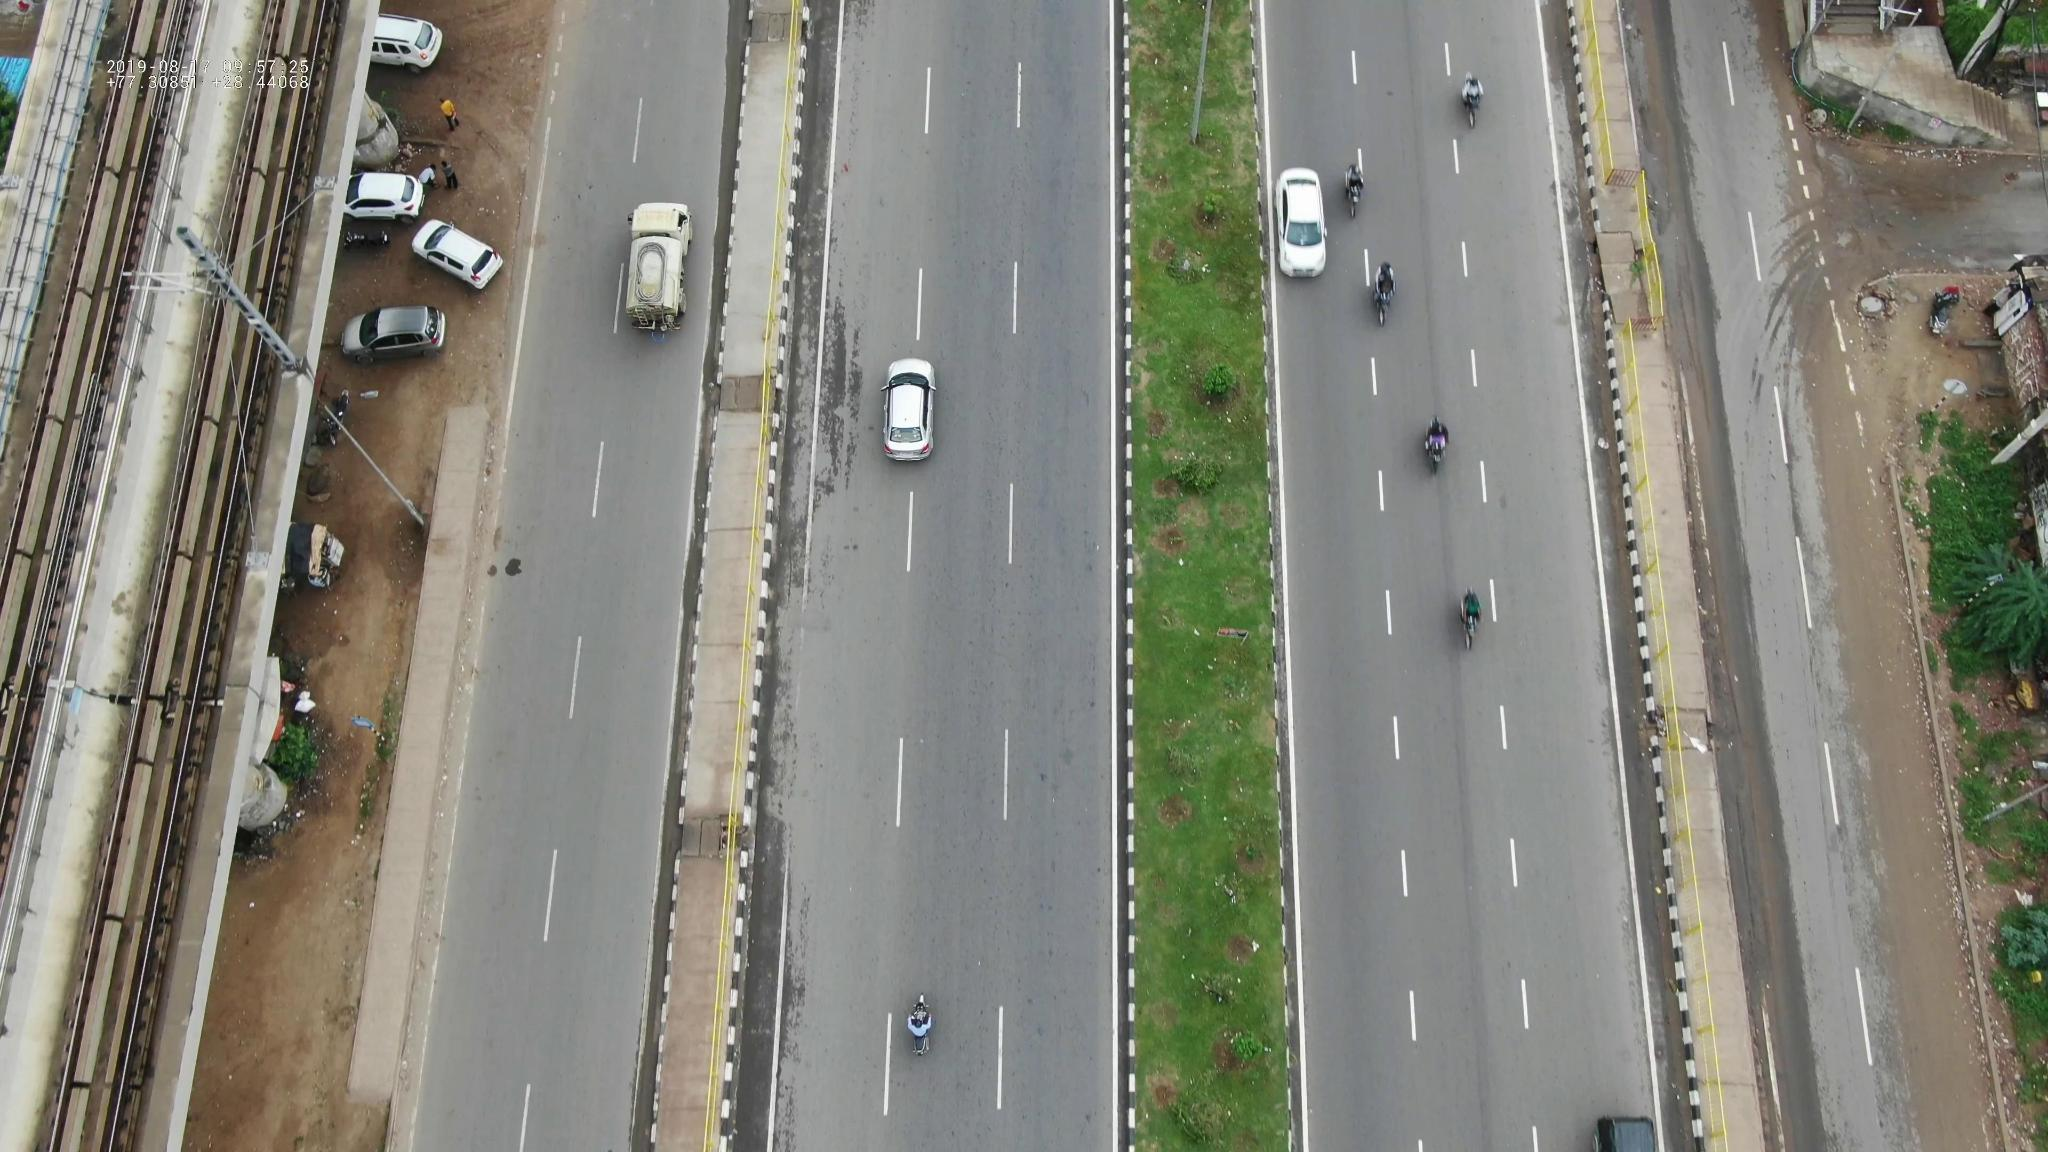Muddy_road: (1812, 499, 1926, 660), (1807, 307, 1897, 488), (1881, 826, 1971, 1004)
